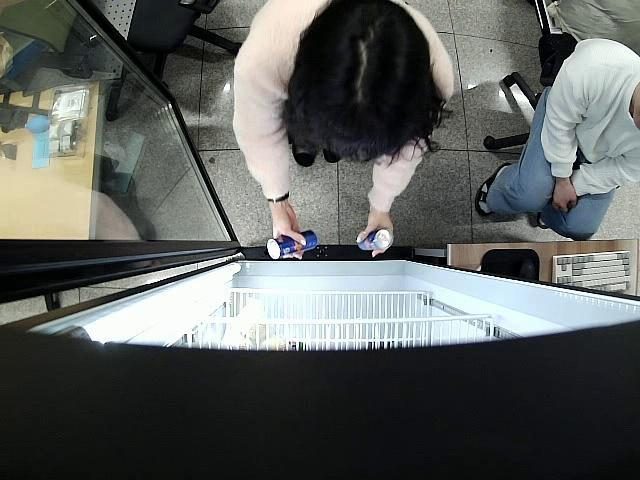16_hot6: (266, 229, 318, 260), (358, 229, 396, 252)
